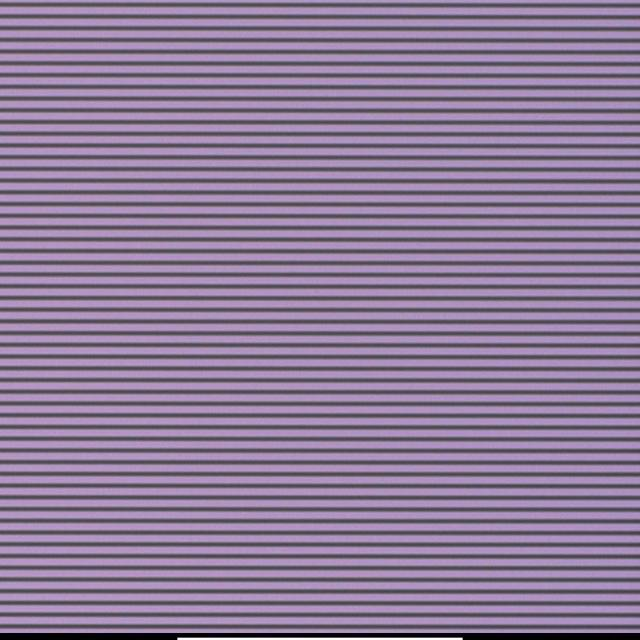nonvisual: (310, 294, 316, 302)
